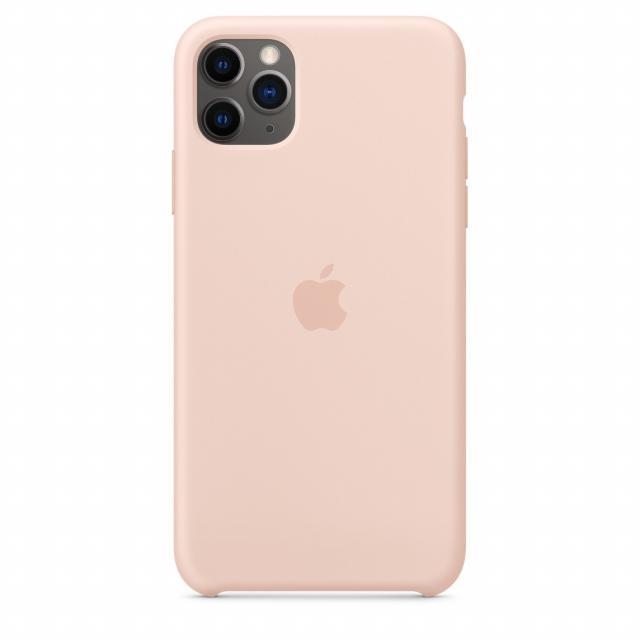phone: (170, 17, 472, 599)
